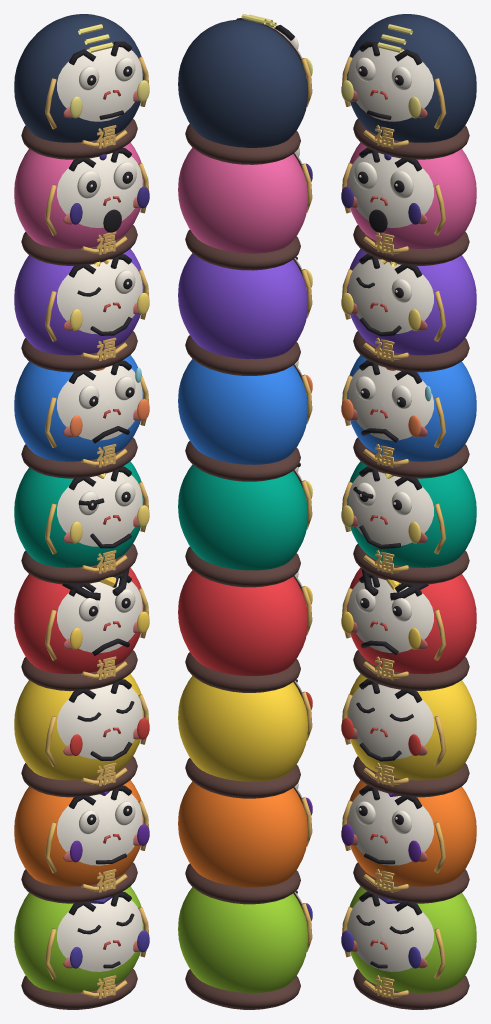
Rendered from daruma-tower-v2.glb.
The picture shows the model from 3 angles, left to right: view 1: azimuth 30°, elevation 25°; view 2: azimuth 150°, elevation 25°; view 3: azimuth 330°, elevation 25°; orthographic projection.
Visible parts, largest first — view 1: TikiDaruma_Neutral_body, TikiDaruma_Sleepy_body, TikiDaruma_EyeRoll_body, TikiDaruma_Sweat_body, TikiDaruma_Surprised_body, TikiDaruma_Angry_body, TikiDaruma_Wink_body, TikiDaruma_Smile_body, TikiDaruma_Smirk_body, TikiDaruma_Smile_face, TikiDaruma_Sleepy_face, TikiDaruma_Wink_face (+27 smaller); view 2: TikiDaruma_Neutral_body, TikiDaruma_Smirk_body, TikiDaruma_EyeRoll_body, TikiDaruma_Surprised_body, TikiDaruma_Sleepy_body, TikiDaruma_Smile_body, TikiDaruma_Wink_body, TikiDaruma_Angry_body, TikiDaruma_Sweat_body, TikiDaruma_Sweat_base, TikiDaruma_Smile_base, TikiDaruma_Surprised_base (+6 smaller); view 3: TikiDaruma_Neutral_body, TikiDaruma_EyeRoll_body, TikiDaruma_Sleepy_body, TikiDaruma_Sweat_body, TikiDaruma_Smile_body, TikiDaruma_Smirk_body, TikiDaruma_Wink_body, TikiDaruma_Surprised_body, TikiDaruma_Angry_body, TikiDaruma_Smile_face, TikiDaruma_Sleepy_face, TikiDaruma_Wink_face (+27 smaller).
Part boxes in pixels (bbox=[...]): TikiDaruma_Neutral_body: bbox=[14, 14, 143, 142]; TikiDaruma_Sleepy_body: bbox=[14, 886, 143, 992]; TikiDaruma_EyeRoll_body: bbox=[14, 780, 143, 886]; TikiDaruma_Sweat_body: bbox=[14, 355, 143, 461]; TikiDaruma_Surprised_body: bbox=[14, 142, 143, 248]; TikiDaruma_Angry_body: bbox=[14, 567, 143, 673]; TikiDaruma_Wink_body: bbox=[14, 249, 143, 355]; TikiDaruma_Smile_body: bbox=[14, 674, 143, 780]; TikiDaruma_Smirk_body: bbox=[14, 461, 143, 567]; TikiDaruma_Smile_face: bbox=[57, 684, 142, 759]; TikiDaruma_Sleepy_face: bbox=[57, 897, 142, 971]; TikiDaruma_Wink_face: bbox=[57, 259, 142, 334]; TikiDaruma_Neutral_body: bbox=[178, 20, 307, 147]; TikiDaruma_Smirk_body: bbox=[178, 464, 307, 570]; TikiDaruma_EyeRoll_body: bbox=[178, 781, 307, 887]; TikiDaruma_Surprised_body: bbox=[178, 147, 307, 253]; TikiDaruma_Sleepy_body: bbox=[178, 887, 307, 992]; TikiDaruma_Smile_body: bbox=[178, 676, 307, 781]; TikiDaruma_Wink_body: bbox=[178, 253, 307, 359]; TikiDaruma_Angry_body: bbox=[178, 570, 307, 675]; TikiDaruma_Sweat_body: bbox=[178, 359, 307, 464]; TikiDaruma_Sweat_base: bbox=[185, 441, 300, 481]; TikiDaruma_Smile_base: bbox=[185, 758, 300, 798]; TikiDaruma_Surprised_base: bbox=[185, 229, 300, 270]; TikiDaruma_Neutral_body: bbox=[347, 14, 476, 142]; TikiDaruma_EyeRoll_body: bbox=[347, 780, 476, 886]; TikiDaruma_Sleepy_body: bbox=[347, 886, 476, 992]; TikiDaruma_Sweat_body: bbox=[347, 355, 476, 461]; TikiDaruma_Smile_body: bbox=[347, 674, 476, 780]; TikiDaruma_Smirk_body: bbox=[347, 461, 476, 567]; TikiDaruma_Wink_body: bbox=[347, 249, 476, 355]; TikiDaruma_Surprised_body: bbox=[347, 142, 476, 248]; TikiDaruma_Angry_body: bbox=[347, 567, 476, 673]; TikiDaruma_Smile_face: bbox=[348, 684, 433, 758]; TikiDaruma_Sleepy_face: bbox=[348, 897, 433, 971]; TikiDaruma_Wink_face: bbox=[348, 259, 433, 333].
Size of the model in its own units: 1.38 by 10.88 by 1.25.
